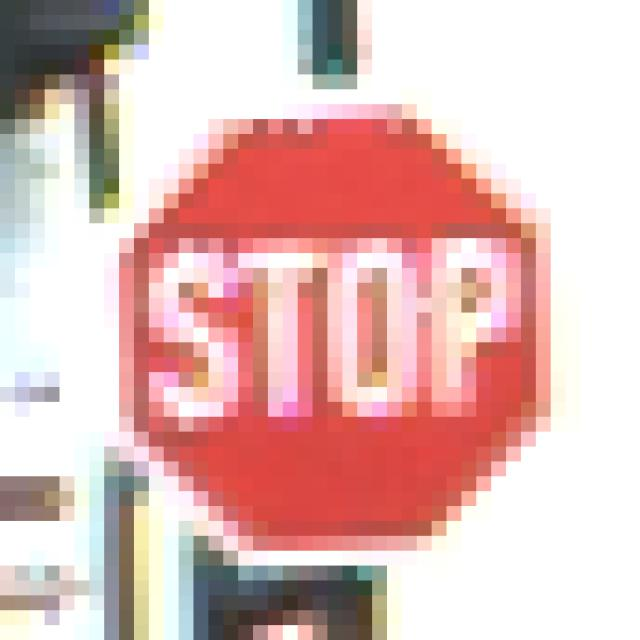STOP: (90, 90, 567, 567)
